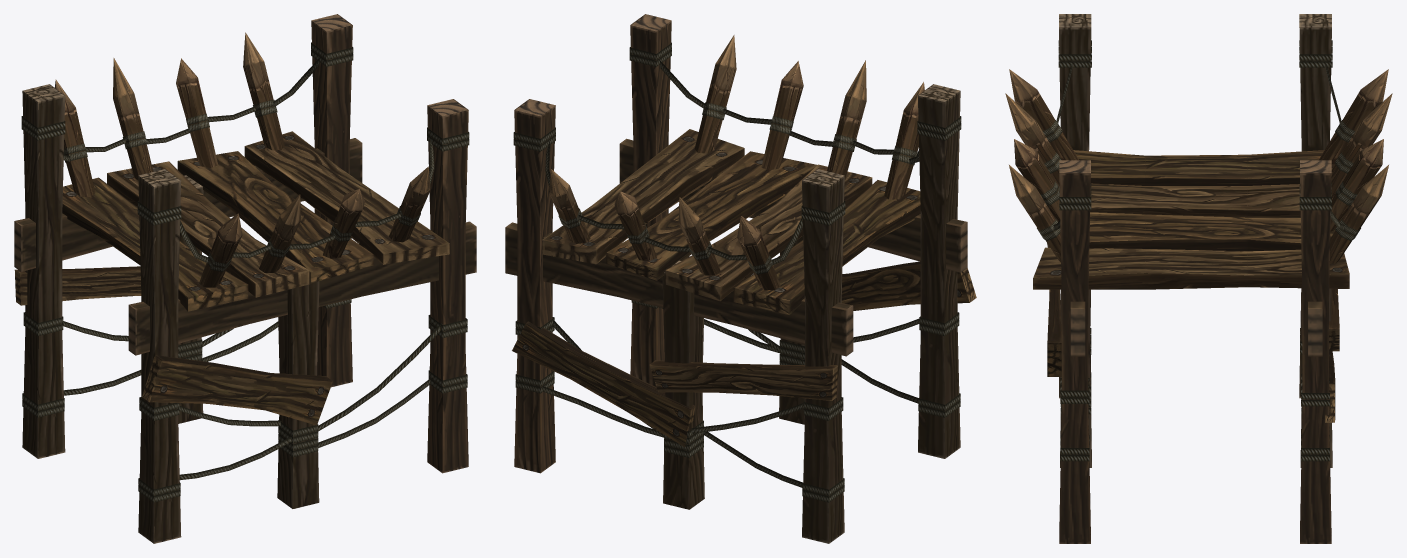
File: scaffolding_02.fbx
The picture shows the model from 3 angles, left to right: view 1: azimuth 30°, elevation 25°; view 2: azimuth 150°, elevation 25°; view 3: azimuth 270°, elevation 25°; orthographic projection. The views are drawn at different scales.
Parts seen in each view (by area): view 1: scaffolding_02; view 2: scaffolding_02; view 3: scaffolding_02.
Boxes of the visible parts, bbox=[...] form: scaffolding_02: bbox=[14, 14, 476, 543]; scaffolding_02: bbox=[505, 14, 976, 543]; scaffolding_02: bbox=[1005, 14, 1392, 543].
Size of the model in its own units: 400 by 400 by 379.
